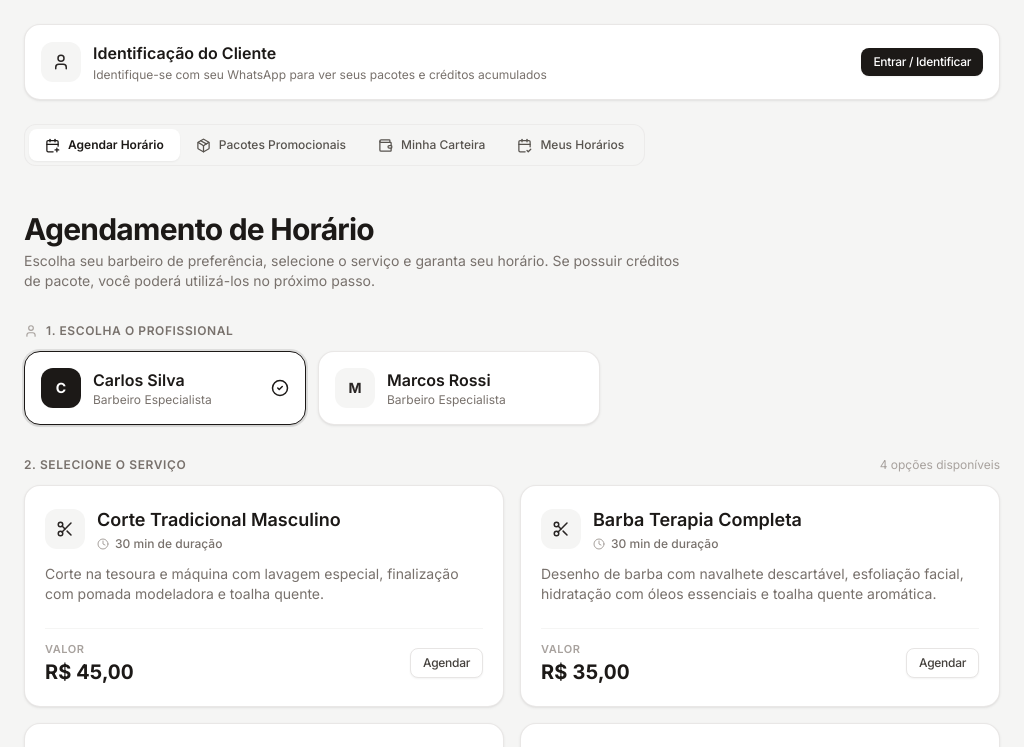
ClientPortal Customer Identification Banner and Reactive Sync › opens CustomerLoginModal when clicking login button in invitation banner
What coordinates should you click on to do the following:
click the button "Entrar / Identificar"
I would click on:
 (922, 62)
Its box is top-left (861, 48), bottom-right (983, 76).
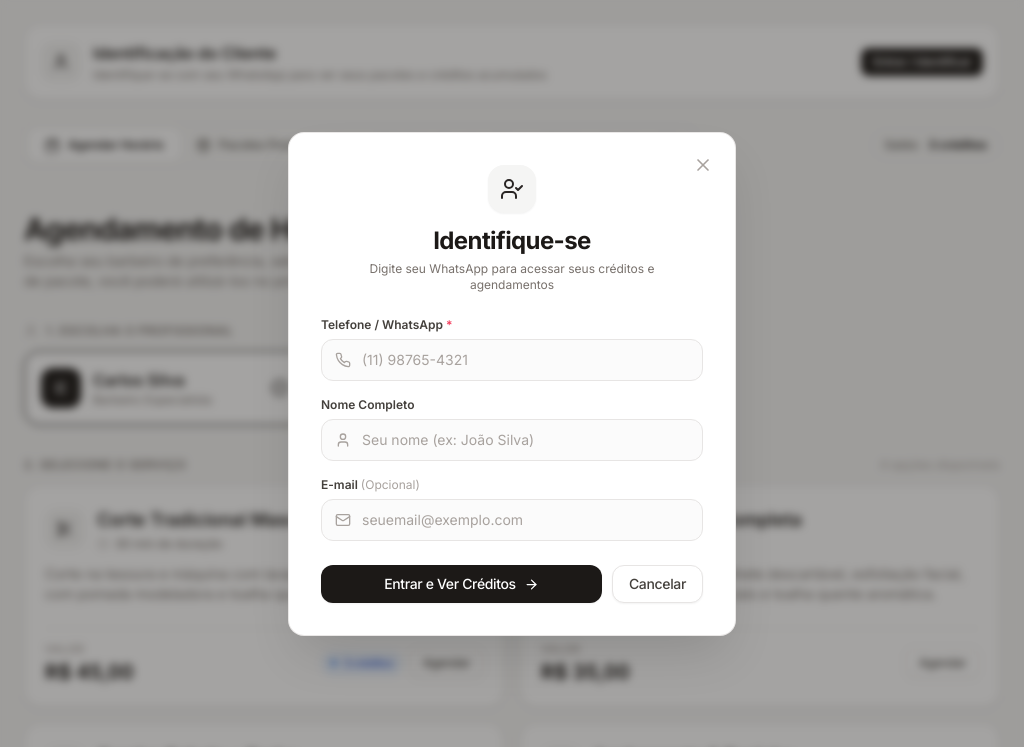
Expected: the field labelled "Telefone / WhatsApp *" is shown, top-left (321, 339), bottom-right (703, 381)
